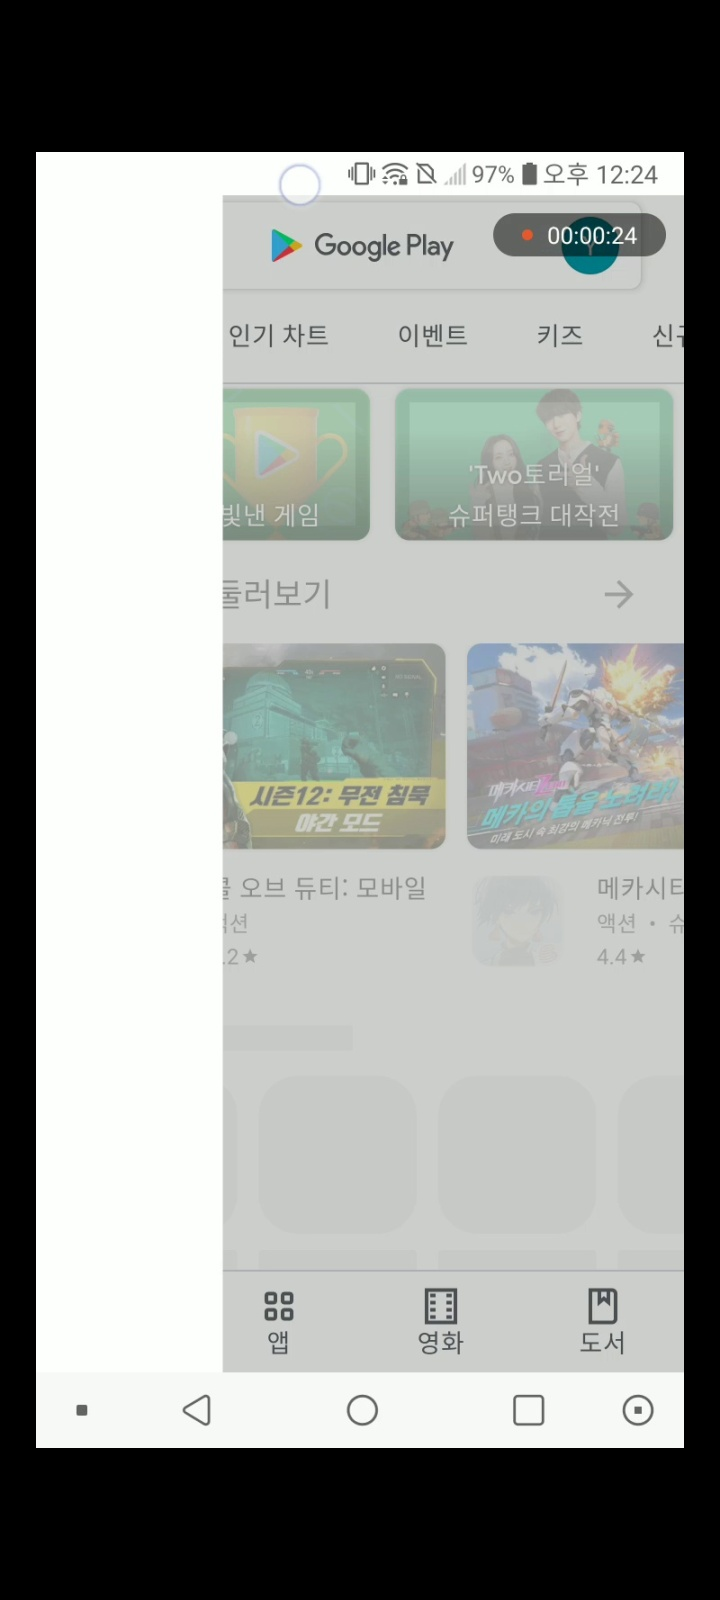Cursor: (279, 161, 324, 206)
